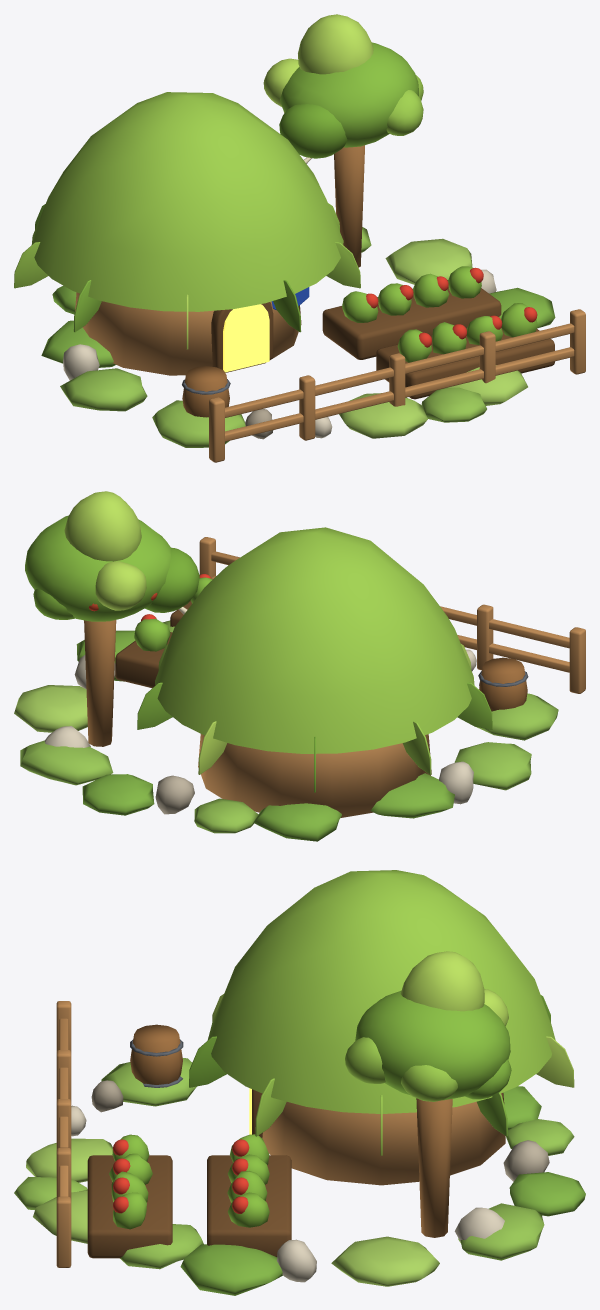
Rendered from b_grove.glb.
3 views of the same model, one above another, from view 1: azimuth 30°, elevation 25°; view 2: azimuth 150°, elevation 25°; view 3: azimuth 270°, elevation 25° (orthographic). The views are drawn at different scales.
Visible parts, largest first — view 1: root_matte#9ccc4c, root_matte#c08a52, root_matte#86bc40, root_matte#74502c, root_matte#94c252, root_matte#a8d060, root_matte#b6dc5c, root_matte#76aa36, root_matte#7fb243, fruitTree, doorLight, barrel (+2 smaller); view 2: root_matte#9ccc4c, root_matte#c08a52, root_matte#86bc40, root_matte#94c252, root_matte#7fb243, root_matte#b6dc5c, fruitTree, root_matte#a8d060, root_matte#d6ccb6, root_matte#76aa36, barrel, root_matte#74502c (+1 smaller); view 3: root_matte#9ccc4c, root_matte#c08a52, root_matte#86bc40, root_matte#74502c, root_matte#94c252, root_matte#7fb243, root_matte#a8d060, root_matte#b6dc5c, fruitTree, root_matte#d6ccb6, barrel, root_matte#e0402e (+3 smaller).
Part boxes in pixels (x1,y1,x2,y2): root_matte#9ccc4c: (14,75,423,311); root_matte#c08a52: (75,292,585,462); root_matte#86bc40: (73,42,537,362); root_matte#74502c: (211,280,554,399); root_matte#94c252: (60,227,486,447); root_matte#a8d060: (339,238,527,438); root_matte#b6dc5c: (186,14,373,349); root_matte#76aa36: (35,104,347,332); root_matte#7fb243: (41,285,555,367); fruitTree: (334,145,364,267); doorLight: (223,304,269,372); barrel: (182,366,229,417); root_matte#9ccc4c: (155,527,474,774); root_matte#c08a52: (198,537,585,817); root_matte#86bc40: (25,515,492,729); root_matte#94c252: (20,620,558,833); root_matte#7fb243: (76,630,454,841); root_matte#b6dc5c: (64,491,471,774); fruitTree: (84,620,116,746); root_matte#a8d060: (14,685,87,732); root_matte#d6ccb6: (44,649,476,804); root_matte#76aa36: (145,547,315,792); barrel: (479,657,527,711); root_matte#74502c: (115,600,191,688); root_matte#9ccc4c: (207,870,555,1155); root_matte#c08a52: (56,1001,505,1267); root_matte#86bc40: (109,990,511,1229); root_matte#74502c: (87,1089,291,1258); root_matte#94c252: (14,1058,574,1269); root_matte#7fb243: (180,1086,585,1295); root_matte#a8d060: (26,1138,439,1286); root_matte#b6dc5c: (212,951,574,1087); fruitTree: (416,1098,452,1237); root_matte#d6ccb6: (71,1105,504,1282); barrel: (130,1024,182,1084); root_matte#e0402e: (113,1139,249,1213).
Bounding box in the file's own units: 2.24 × 1.21 × 2.16.
